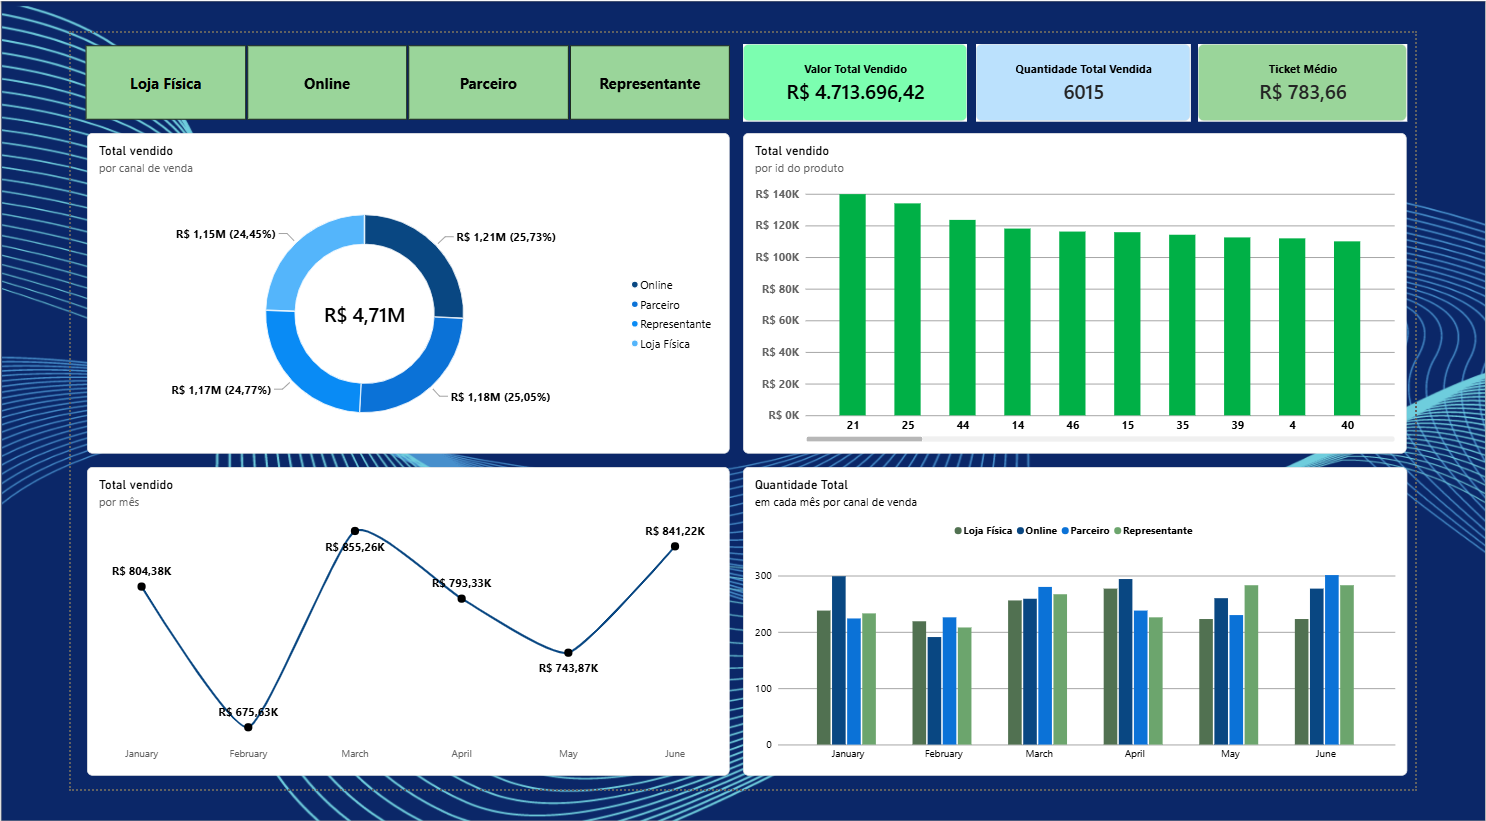

The page's visual inventory and layout, read from the dashboard file:
{"tool":"powerbi","page":{"name":"Page 1","canvas":[1920,1080],"ordinal":0},"visuals":[{"type":"slicer","fields":{"Values":["base_Modulo01.canal_venda"]},"box":[0,15.7,960,110],"z":0},{"type":"cardVisual","fields":{"Data":["Sum(base_Modulo01.valor_total)"]},"box":[960.1,15.8,320,110.6],"z":1000},{"type":"cardVisual","fields":{"Data":["Sum(base_Modulo01.quantidade)"]},"box":[1293.4,15.8,306.9,110.6],"z":2000},{"type":"cardVisual","fields":{"Data":["base_Modulo01.Sum of valor_total divided by Sum of quantidade"]},"box":[1609.5,15.8,299,110.6],"z":3000},{"type":"lineChart","title":"Total vendido","fields":{"Category":["base_Modulo01.data_venda.Variation.Date Hierarchy.Month"],"Y":["Sum(base_Modulo01.valor_total)"]},"box":[22.4,620.3,918,441.2],"z":4000},{"type":"donutChart","title":"Total vendido","fields":{"Category":["base_Modulo01.canal_venda"],"Y":["Sum(base_Modulo01.valor_total)"]},"box":[22.4,143.6,918,458.3],"z":5000},{"type":"columnChart","title":"Total vendido","fields":{"Category":["base_Modulo01.id_produto"],"Y":["Sum(base_Modulo01.valor_total)"]},"box":[960.1,143.6,948.3,458.3],"z":6000},{"type":"clusteredColumnChart","title":"Quantidade Total","fields":{"Category":["base_Modulo01.data_venda.Variation.Date Hierarchy.Month1"],"Series":["base_Modulo01.canal_venda"],"Y":["Sum(base_Modulo01.quantidade)"]},"box":[959.3,620.1,948.7,441.2],"z":7000}]}

Visuals, with their boxes in screenshot pixels (x1, y1, x2, y2), scaled from the page's 1920x1080 canvas onto the 1486x821 screenshot:
slicer - base_Modulo01.canal_venda: 0, 12, 743, 96
cardVisual - Sum(base_Modulo01.valor_total): 743, 12, 991, 96
cardVisual - Sum(base_Modulo01.quantidade): 1001, 12, 1239, 96
cardVisual - base_Modulo01.Sum of valor_total divided by Sum of quantidade: 1246, 12, 1477, 96
"Total vendido" lineChart: 17, 472, 728, 807
"Total vendido" donutChart: 17, 109, 728, 458
"Total vendido" columnChart: 743, 109, 1477, 458
"Quantidade Total" clusteredColumnChart: 742, 471, 1477, 807
